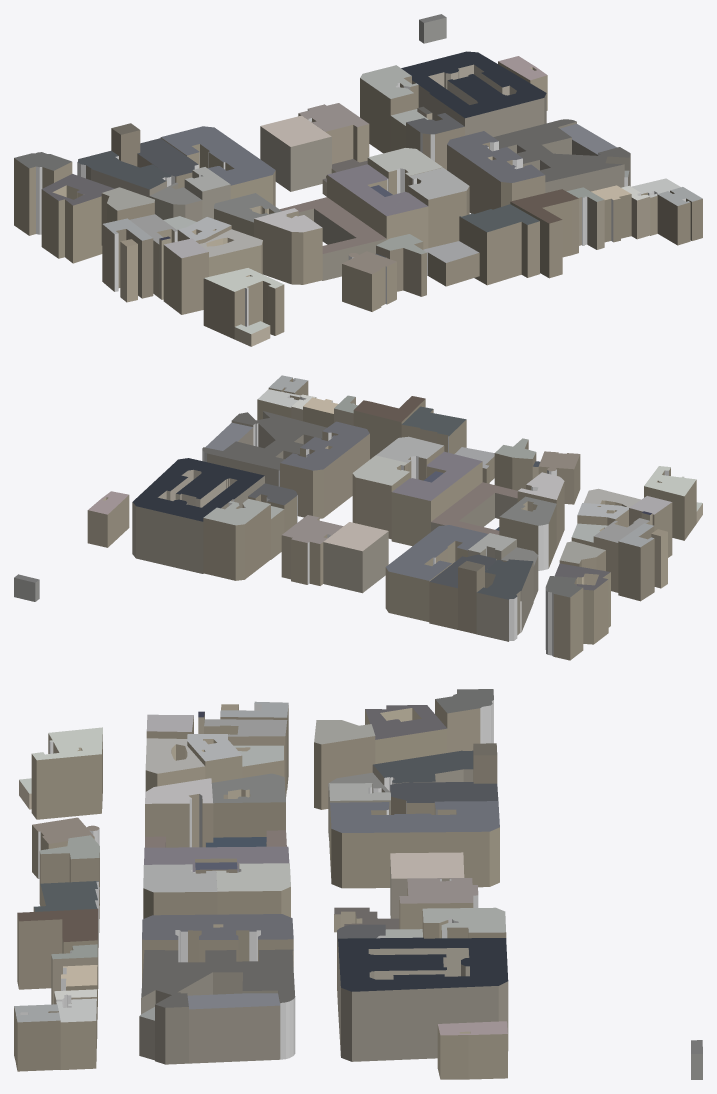
3 renders of one model, top to bottom at view 1: azimuth 30°, elevation 25°; view 2: azimuth 150°, elevation 25°; view 3: azimuth 270°, elevation 25°, orthographic. The views are drawn at different scales.
Visible parts, largest first — view 1: tuile; view 2: tuile; view 3: tuile.
Part boxes in pixels (bbox=[...]): tuile: bbox=[14, 14, 702, 346]; tuile: bbox=[14, 375, 702, 660]; tuile: bbox=[14, 689, 702, 1079].
Bounding box in the file's own units: 251 × 34.96 × 234.
